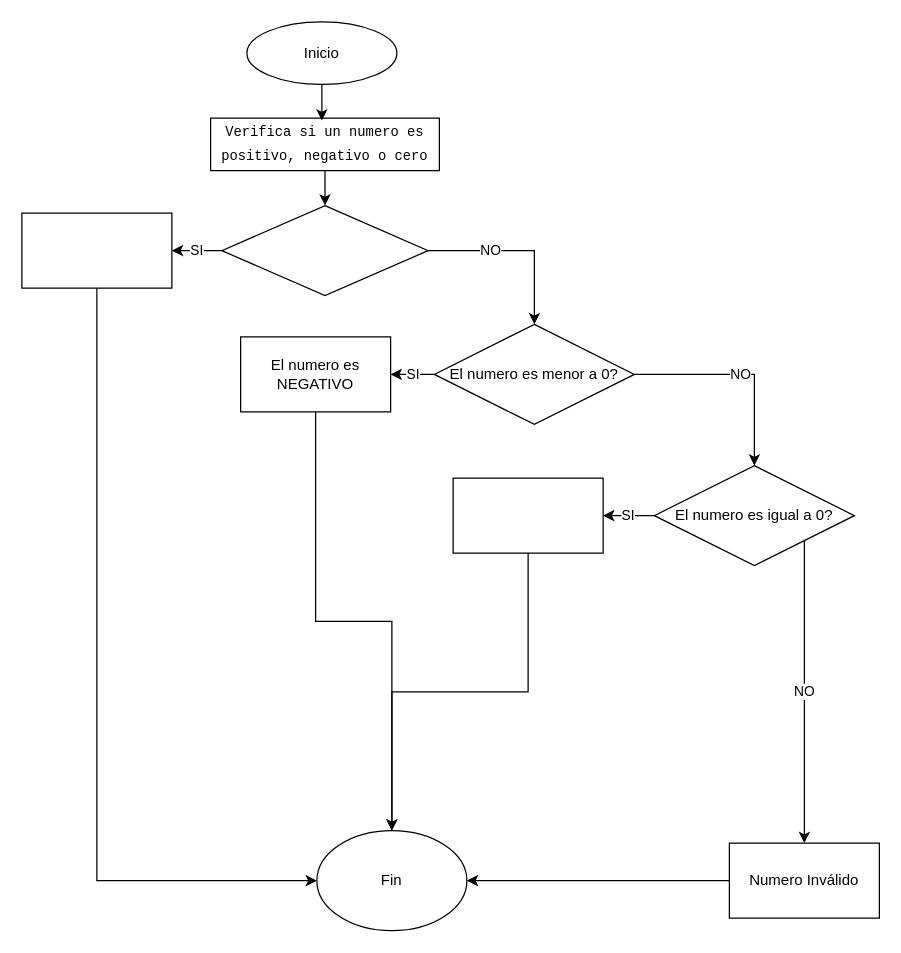
Image size: 901x953. Some labels were removed from this diagram. Each missing label, with the centre of its shape:
El numero es CERO: (527,515)
El numero es mayor a 0?: (324,250)
El numero es POSITIVO: (96,250)
